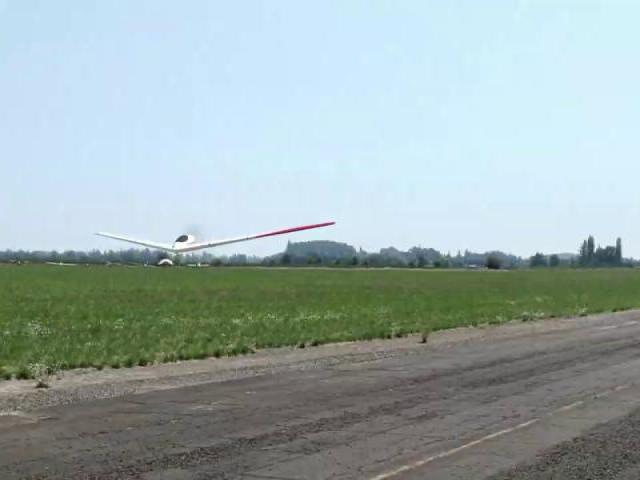flying wing: (92, 217, 339, 259)
